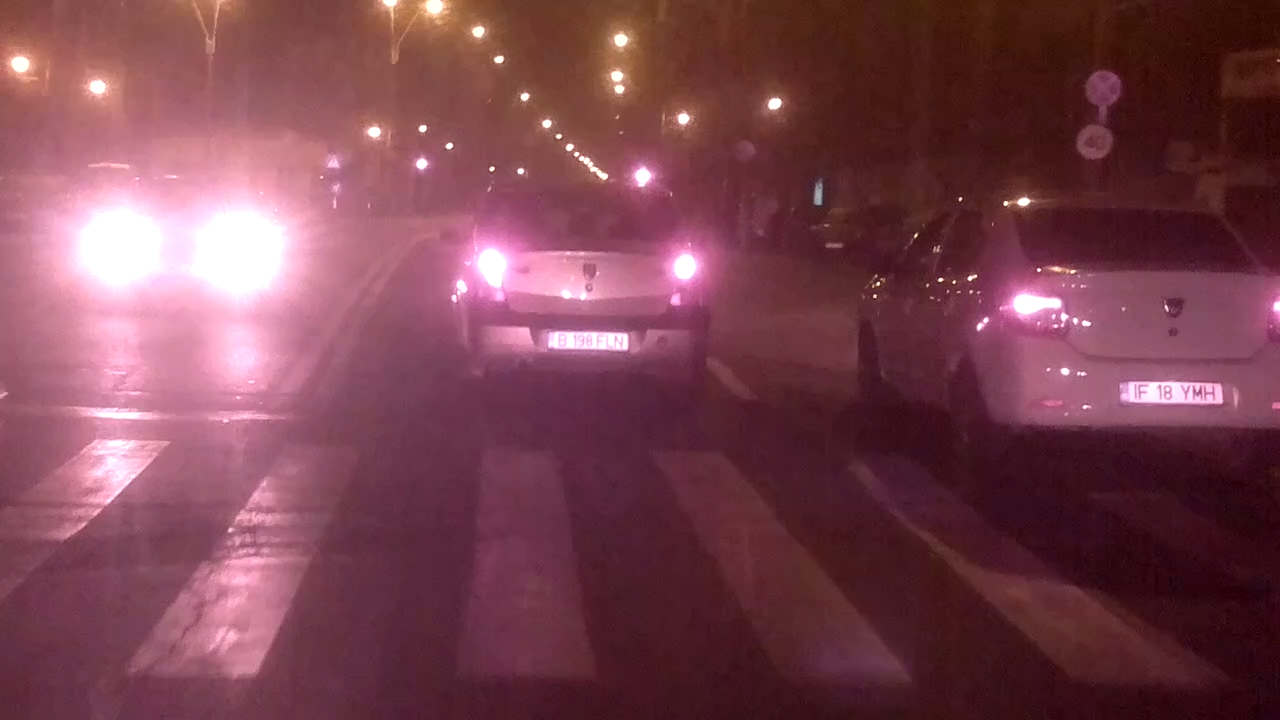license-plate: (1113, 375, 1229, 410), (544, 326, 633, 354)
